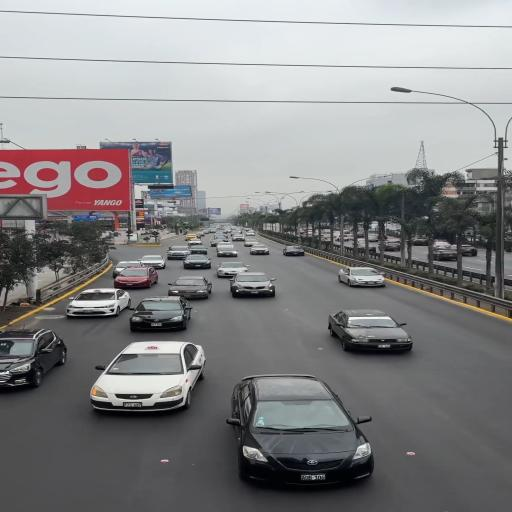auto: (230, 374, 375, 484), (90, 342, 206, 410), (0, 329, 68, 386), (328, 309, 409, 351), (126, 296, 195, 332), (65, 288, 131, 318), (227, 271, 278, 297), (113, 265, 159, 289), (166, 276, 213, 299), (337, 266, 388, 287), (215, 262, 250, 278), (182, 254, 214, 269), (138, 254, 167, 270), (449, 244, 478, 257), (166, 246, 191, 260), (216, 244, 238, 257), (282, 245, 305, 256), (248, 244, 270, 255)
